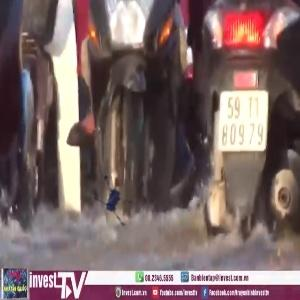drone: (74, 165, 142, 233)
